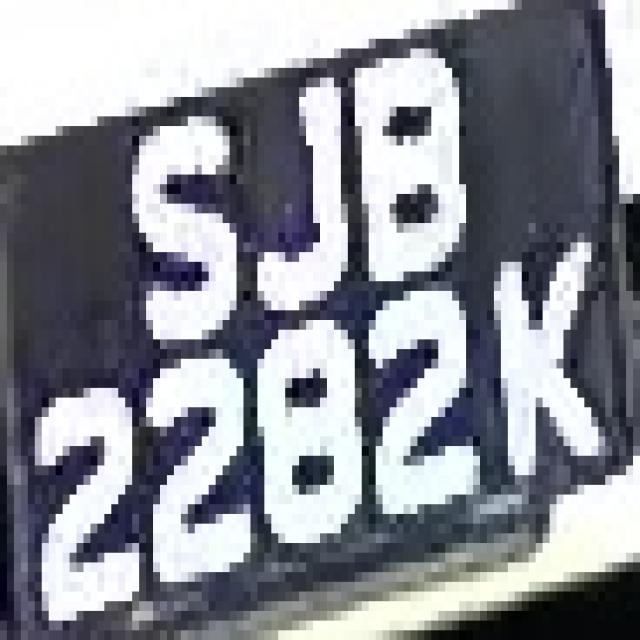2: (7, 349, 153, 640), (355, 291, 508, 514), (132, 359, 271, 553)
8: (243, 300, 362, 562)
B: (348, 29, 494, 291)
J: (236, 19, 362, 330)
K: (466, 223, 619, 504)
S: (90, 116, 250, 359)
